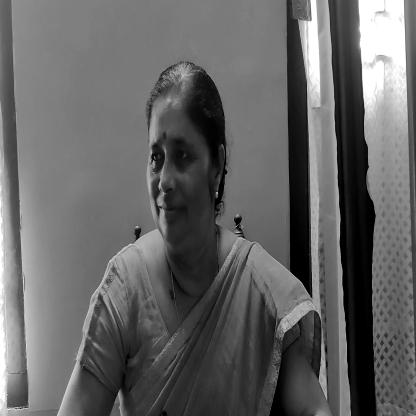Distracted: (142, 66, 227, 242)
